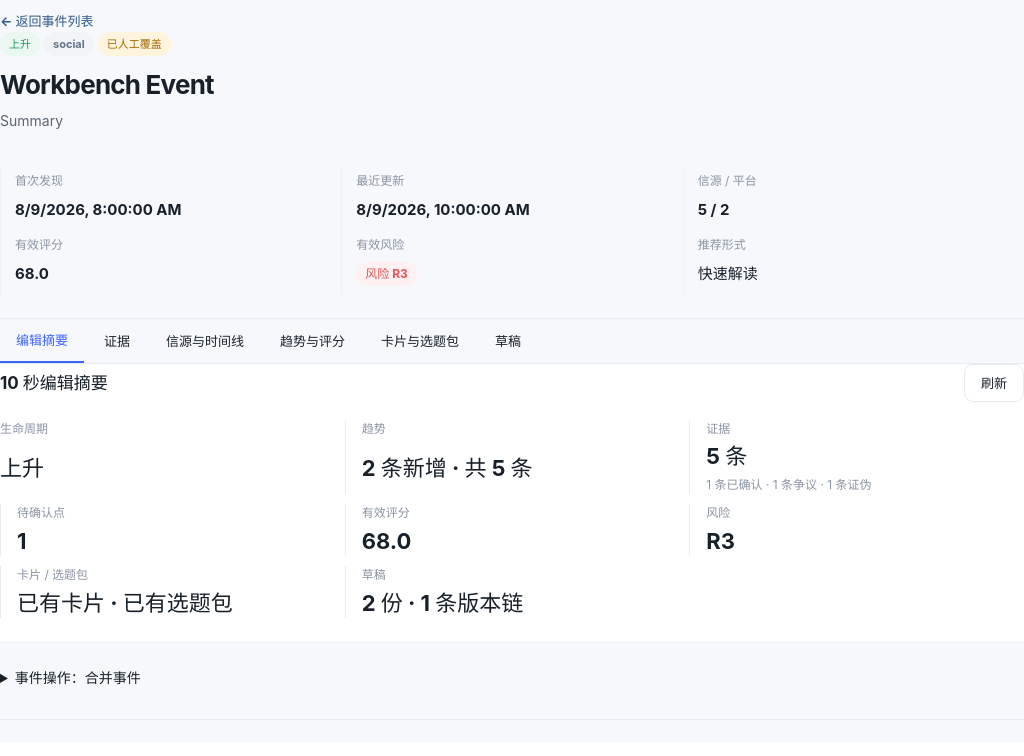
Scenario: requires R3 approval before AI preview and surfaces stale context once
This screenshot has width=1024, height=756.
expect the heading "Workbench Event" is shown: met, box x1=0 y1=69 x2=214 y2=100
Click the tab "草稿". click: click(508, 341)
box: x1=479 y1=319 x2=537 y2=363
(page scrolled)
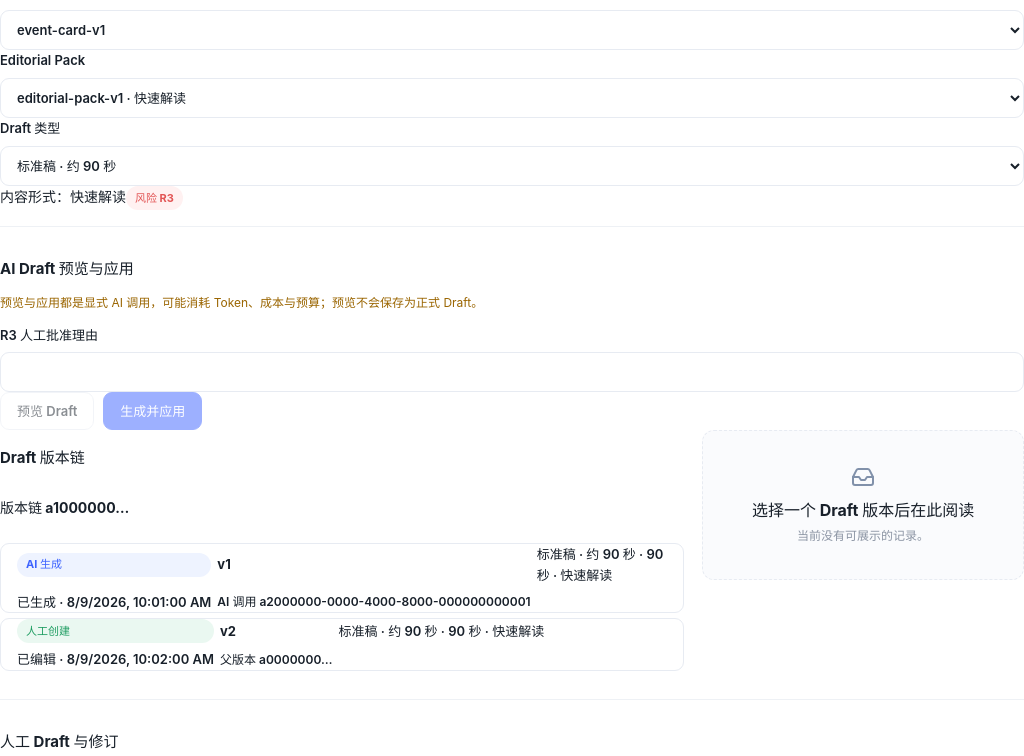
expect the heading "AI Draft 预览与应用" is shown: met, box x1=0 y1=259 x2=134 y2=278
expect the button "预览 Draft" is disabled: met, box x1=0 y1=392 x2=94 y2=430
Type "editor approved risk" into the field labelled "R3 人工批准理由". click: (512, 372)
box: x1=0 y1=352 x2=1023 y2=392
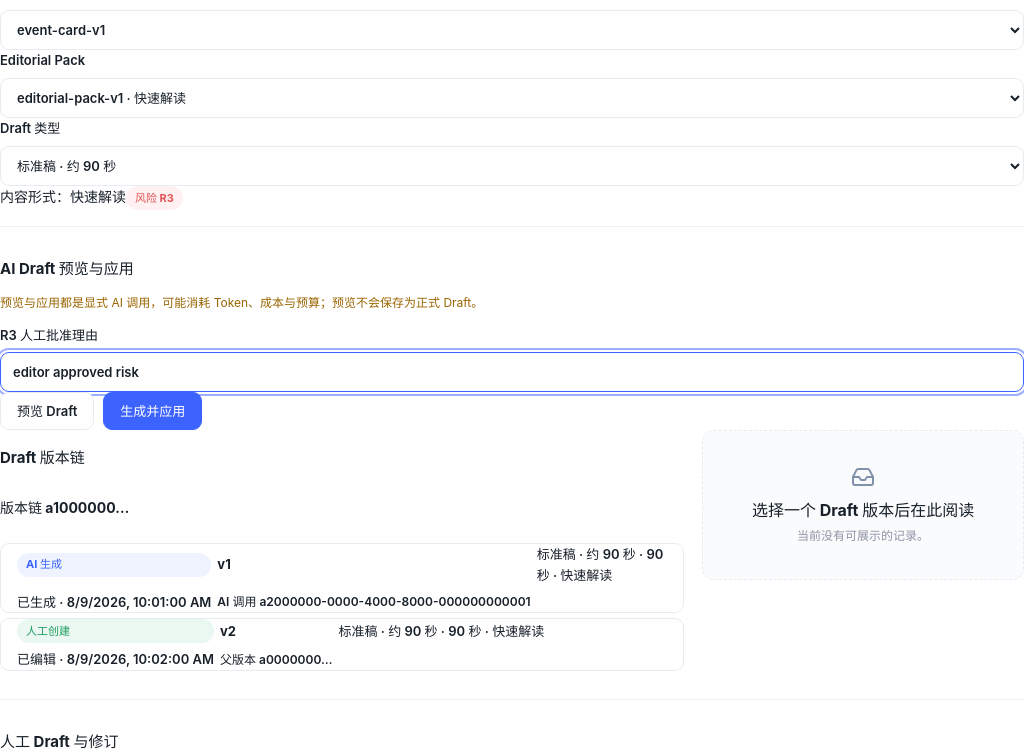
expect the button "预览 Draft" is enabled: met
Click the button "预览 Draft". click: click(47, 411)
box: x1=0 y1=392 x2=94 y2=430
(page scrolled)
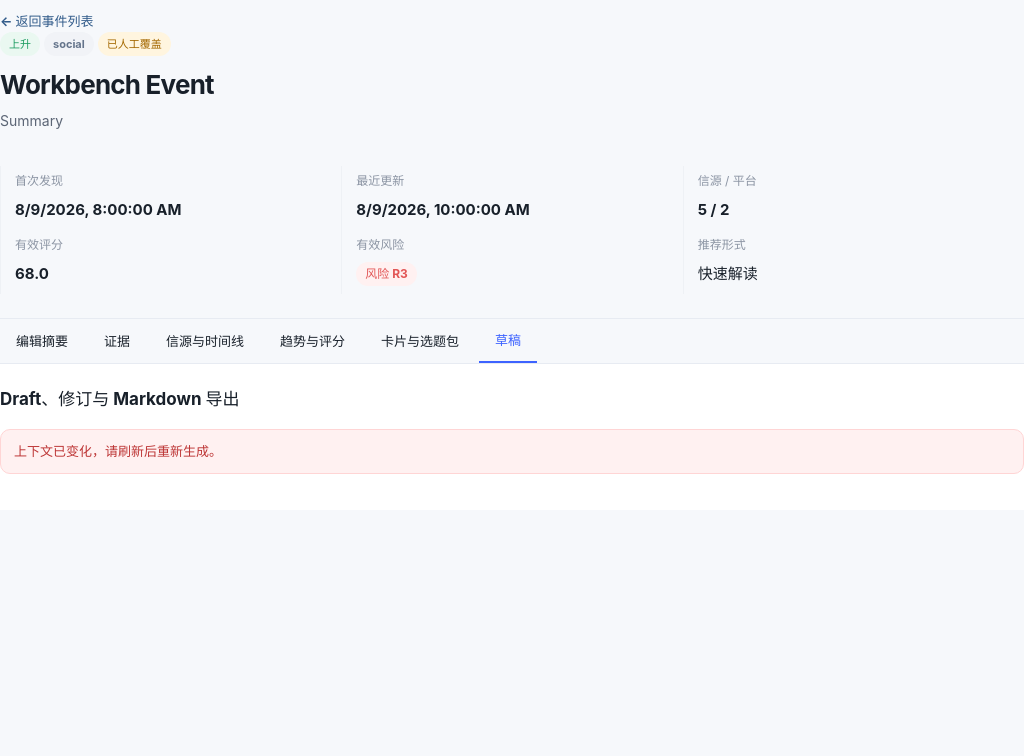
expect the text "上下文已变化，请刷新后重新生成。" is shown: met, box x1=0 y1=429 x2=1023 y2=474
